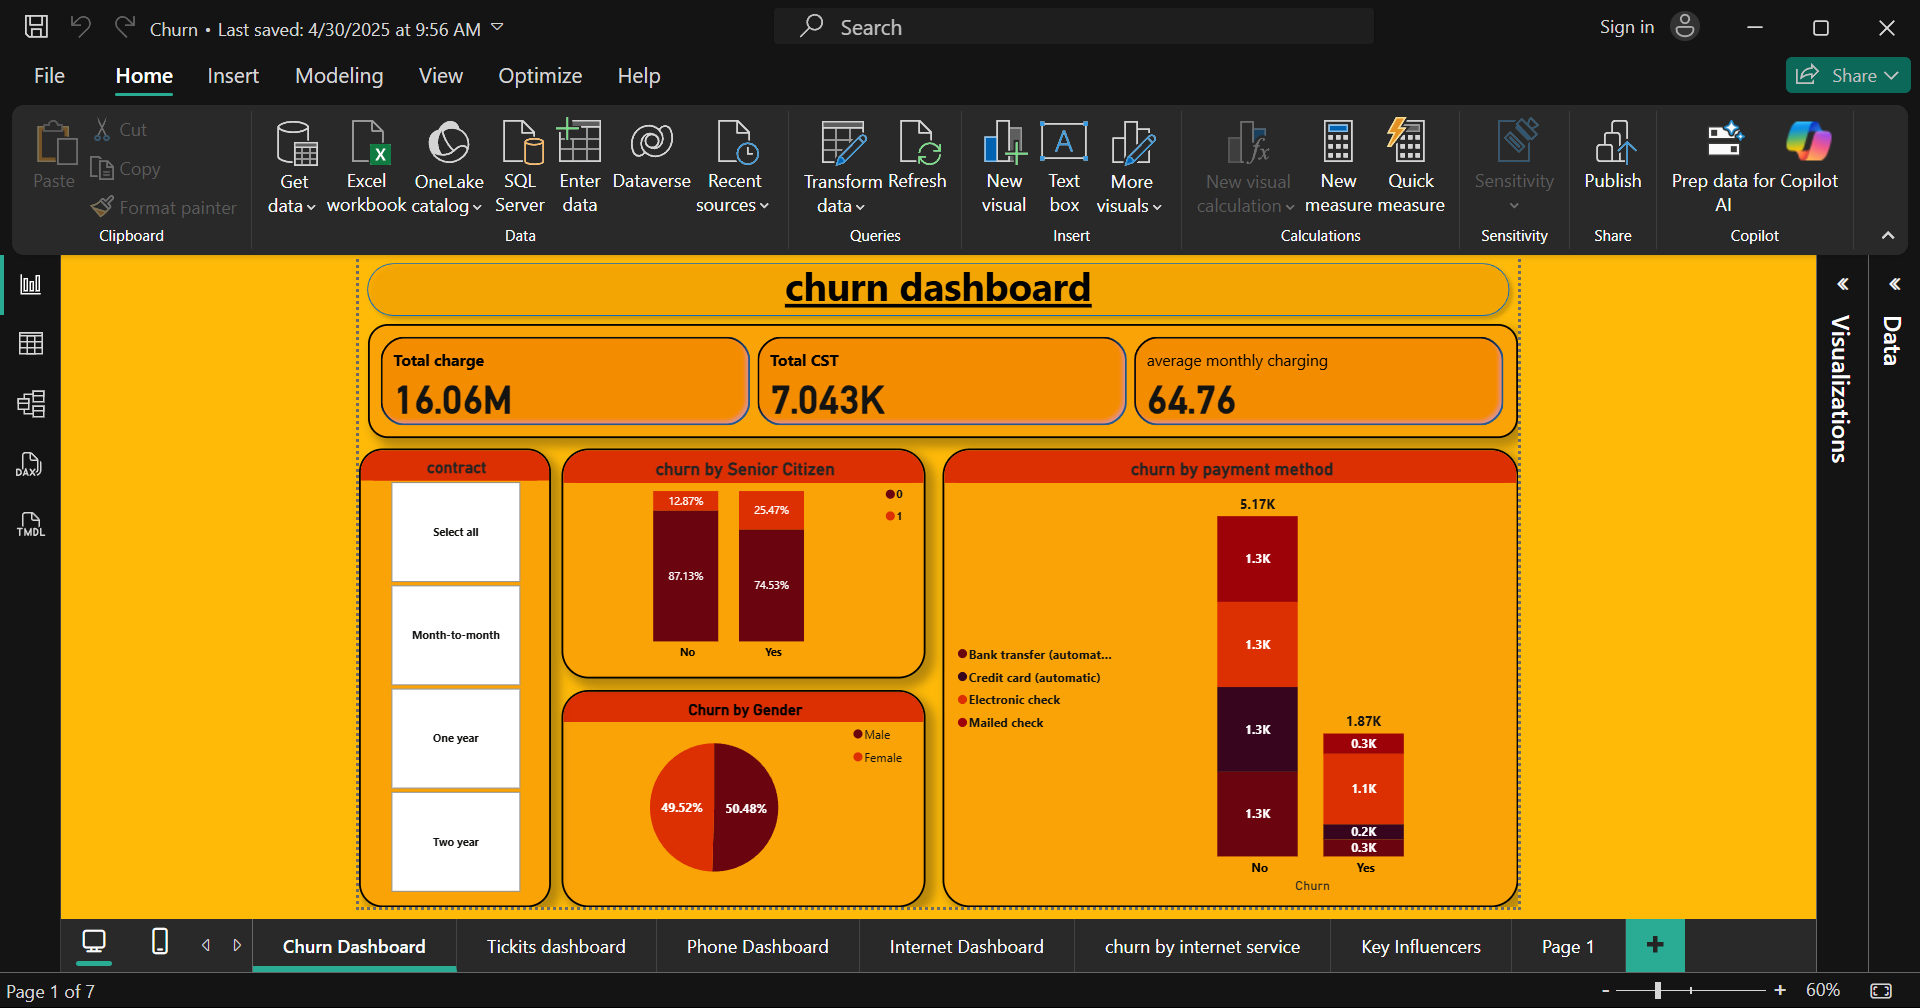

Layout of this report page (visuals, bound fields, positions):
{"tool":"powerbi","page":{"name":"Churn Dashboard","canvas":[1280,720],"ordinal":0},"visuals":[{"type":"cardVisual","fields":{"Data":["Sum(01 Churn-Dataset.TotalCharges)","Count(01 Churn-Dataset.customerID)","Avg(01 Churn-Dataset.MonthlyCharges)"]},"box":[9.4,76.4,1270.1,126.2],"z":0},{"type":"columnChart","title":"churn by payment method","fields":{"Category":["01 Churn-Dataset.Churn"],"Y":["CountNonNull(01 Churn-Dataset.PaymentMethod)"],"Series":["01 Churn-Dataset.PaymentMethod"]},"box":[643.6,213.5,635.8,506.5],"z":1000},{"type":"pieChart","title":"Churn by Gender","fields":{"Category":["01 Churn-Dataset.gender"],"Y":["CountNonNull(01 Churn-Dataset.Churn)"]},"box":[224.4,480,402.1,240],"z":2000},{"type":"shape","box":[0,0,1279.5,76.4],"z":3000,"group":"g1"},{"type":"slicer","title":"contract","fields":{"Values":["01 Churn-Dataset.Contract"]},"box":[0,213.5,211.9,506.5],"z":3000},{"type":"group","id":"g1","title":"Group 1","box":[0,0,1279.5,76.4],"z":4000},{"type":"textbox","box":[0,0,1279.5,76.4],"z":5000,"group":"g1"},{"type":"hundredPercentStackedColumnChart","title":"churn by Senior Citizen","fields":{"Category":["01 Churn-Dataset.Churn"],"Y":["CountNonNull(01 Churn-Dataset.SeniorCitizen)"],"Series":["01 Churn-Dataset.SeniorCitizen"]},"box":[224.4,213.5,402.1,254],"z":5000}]}

Visuals, with their boxes on the page's 1280x720 design canvas (x1, y1, x2, y2). These are canvas units, not pixel positions in the 1920x1008 screenshot, which may show the page scaled, cropped or inside an application window:
cardVisual - Sum(01 Churn-Dataset.TotalCharges) x Count(01 Churn-Dataset.customerID): [9,76,1280,203]
"churn by payment method" columnChart: [644,214,1279,720]
"Churn by Gender" pieChart: [224,480,626,720]
shape: [0,0,1280,76]
"contract" slicer: [0,214,212,720]
"Group 1" group: [0,0,1280,76]
textbox: [0,0,1280,76]
"churn by Senior Citizen" hundredPercentStackedColumnChart: [224,214,626,468]
